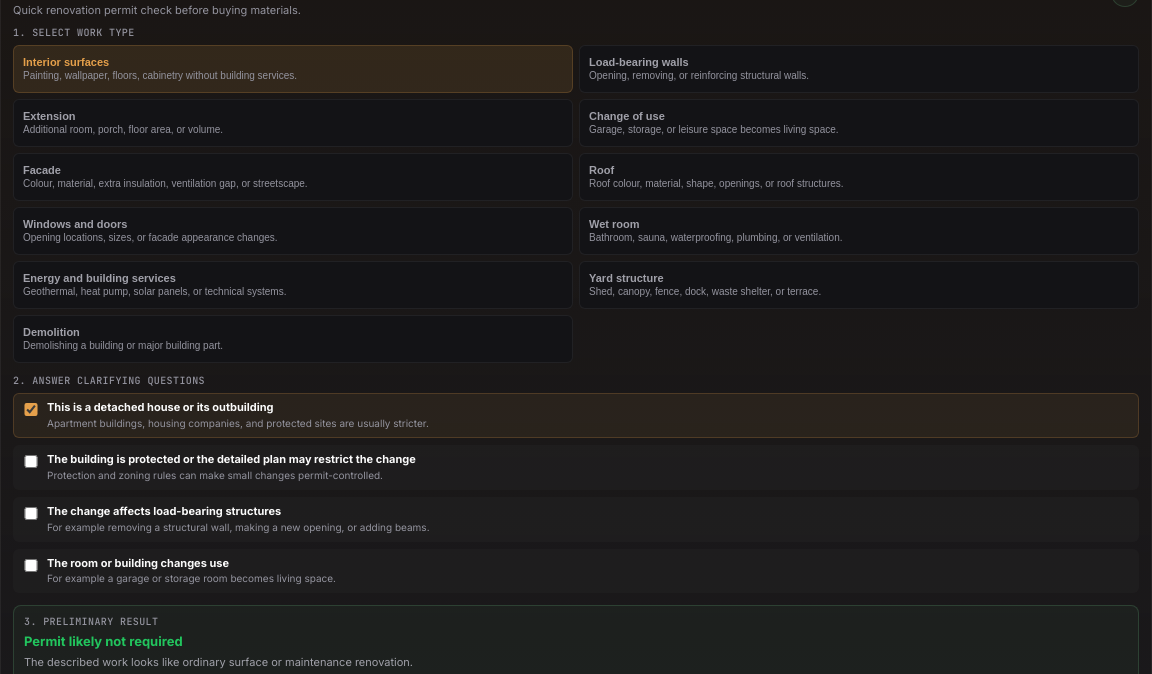
Scenario: PermitCheckerPanel › updates the result when selecting a structural permit category
This screenshot has width=1152, height=674.
Click the button "Load-bearing walls" at {"x": 639, "y": 62}, box [579,45,1139,93]
(page scrolled)
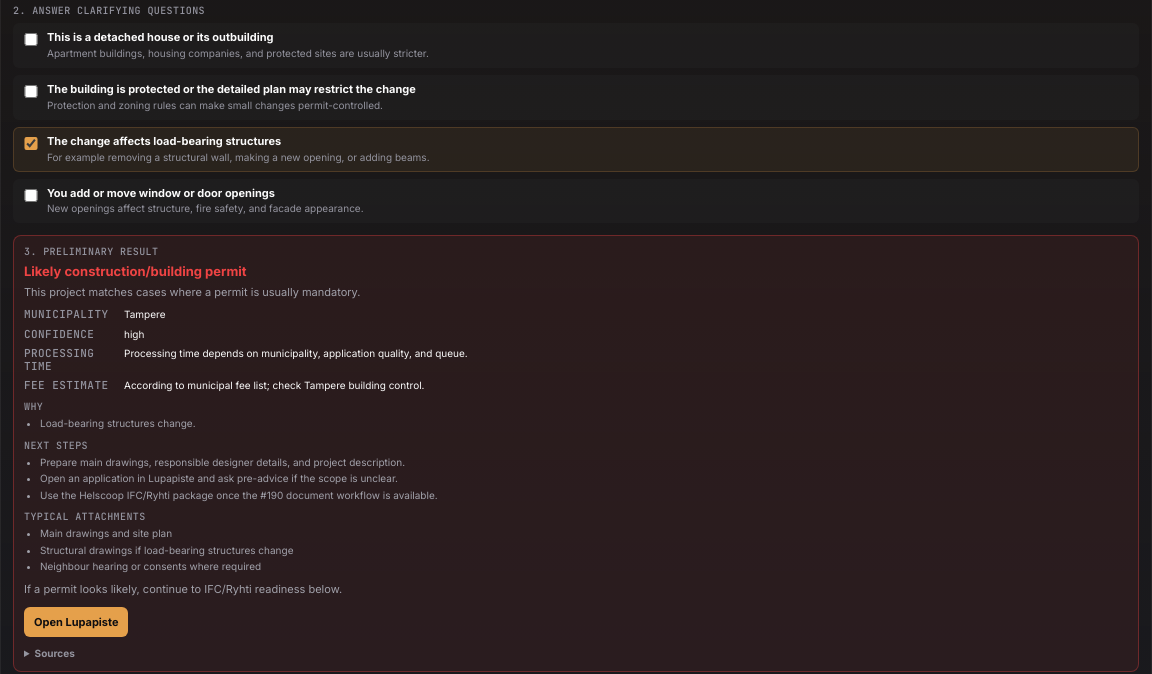
Expected: the text "Tampere" is shown, [124,308,166,320]
Expected: the text "Likely construction/building permit" is shown, [24,263,246,279]
